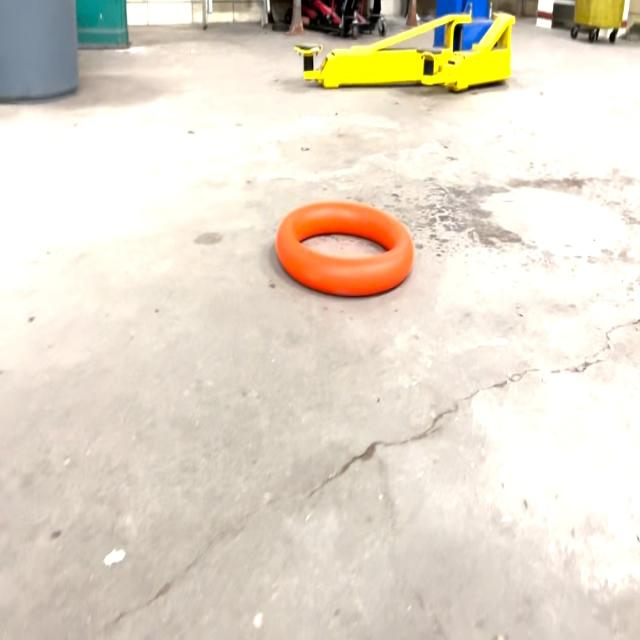note: (276, 201, 414, 296)
